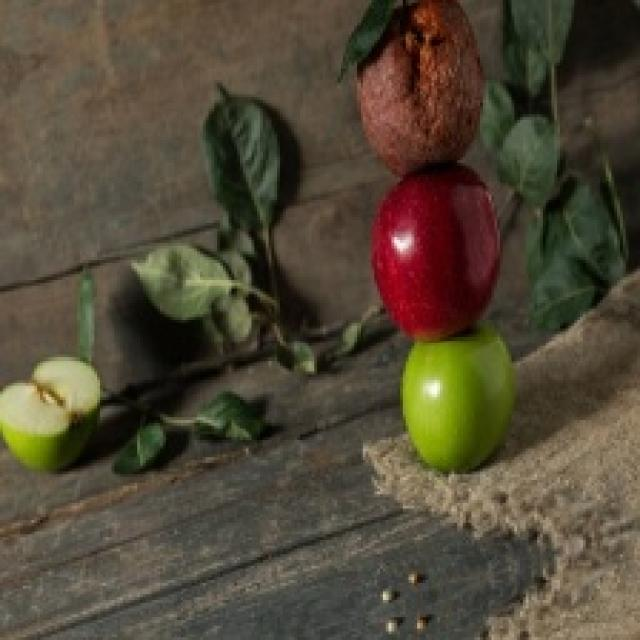100-_ripeness: (380, 180, 499, 334)
50-_ripeness: (412, 345, 518, 467)
rotten_apple: (358, 4, 482, 162)
